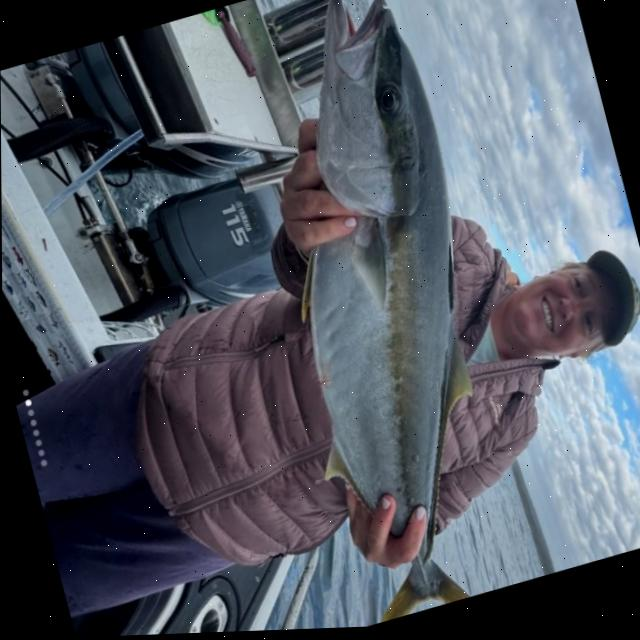Kingfish: (204, 0, 553, 634)
